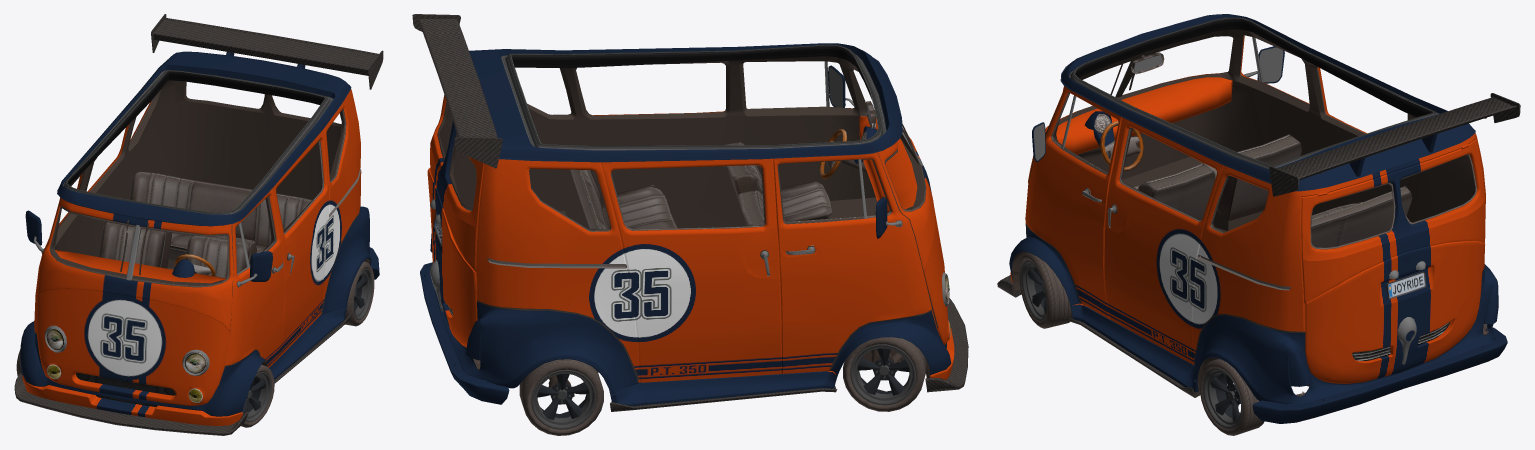
The model's file is traveler.glb.
3 renders of one model, left to right at view 1: azimuth 30°, elevation 25°; view 2: azimuth 150°, elevation 25°; view 3: azimuth 270°, elevation 25°, orthographic. The views are drawn at different scales.
Visible parts, largest first — view 1: node_id934, node_id932, node_id833, node_id850, node_id936, node_id840, node_id942, node_id863, node_id940, node_id948, node_id870, node_id956 (+3 smaller); view 2: node_id934, node_id932, node_id936, node_id833, node_id850, node_id942, node_id884, node_id877, node_id908, node_id840, node_id881, node_id886 (+4 smaller); view 3: node_id934, node_id932, node_id833, node_id936, node_id850, node_id908, node_id942, node_id870, node_id867, node_id863, node_id874, node_id918 (+6 smaller).
Boxes of the visible parts, box(x1,y1,x2,y2) form: node_id934: box(20, 51, 371, 425); node_id932: box(35, 80, 370, 366); node_id833: box(99, 171, 311, 278); node_id850: box(151, 14, 383, 89); node_id936: box(63, 70, 333, 214); node_id840: box(14, 373, 248, 435); node_id942: box(49, 97, 360, 287); node_id863: box(242, 372, 271, 422); node_id940: box(44, 222, 249, 375); node_id948: box(75, 372, 175, 406); node_id870: box(353, 268, 372, 320); node_id956: box(46, 328, 206, 373); node_id934: box(427, 43, 954, 406); node_id932: box(438, 56, 938, 382); node_id936: box(501, 44, 886, 150); node_id833: box(570, 142, 831, 229); node_id850: box(412, 14, 502, 168); node_id942: box(437, 101, 926, 268); node_id884: box(850, 344, 915, 405); node_id877: box(531, 369, 596, 429); node_id908: box(420, 262, 509, 404); node_id840: box(925, 298, 968, 392); node_id881: box(519, 359, 603, 435); node_id886: box(846, 340, 920, 409); node_id934: box(1009, 14, 1498, 403); node_id932: box(1012, 29, 1484, 391); node_id833: box(1134, 134, 1412, 247); node_id936: box(1069, 17, 1439, 168); node_id850: box(1269, 93, 1520, 196); node_id908: box(1252, 327, 1507, 423); node_id942: box(1051, 36, 1476, 290); node_id870: box(1203, 368, 1242, 428); node_id867: box(1021, 252, 1072, 328); node_id863: box(1021, 260, 1047, 321); node_id874: box(1201, 358, 1264, 435); node_id918: box(1244, 47, 1283, 82).
Bounding box in the file's own units: 0.8912 × 0.5057 × 0.8352.
58 materials, 58 textured.
